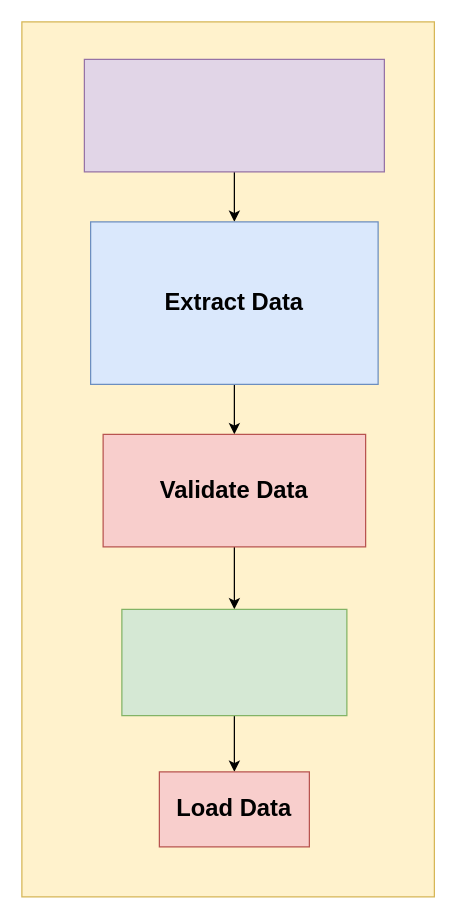
This 456x919 diagram has some shape labels left out. Here are the shapes that lost their labels. From the top down, the centre of each, then its label:
At [233,115]: "Source System".
At [234,662]: "Transform Data".
